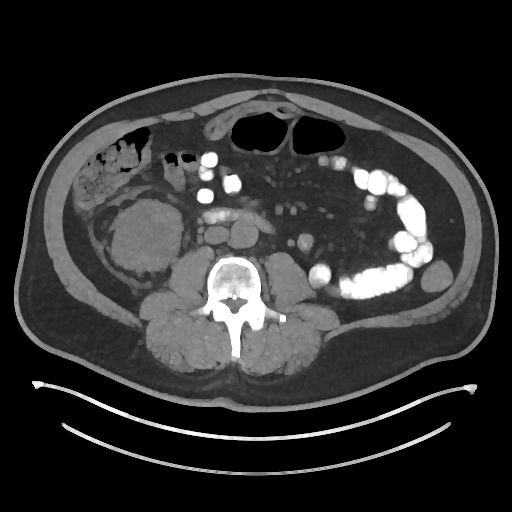Lesion: (111, 204, 180, 270)
